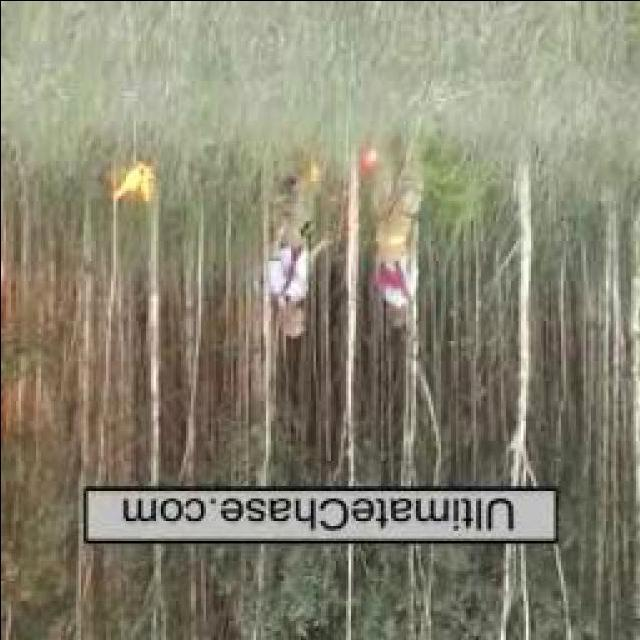Fire: (112, 157, 154, 200), (304, 158, 326, 180), (360, 143, 378, 169)
